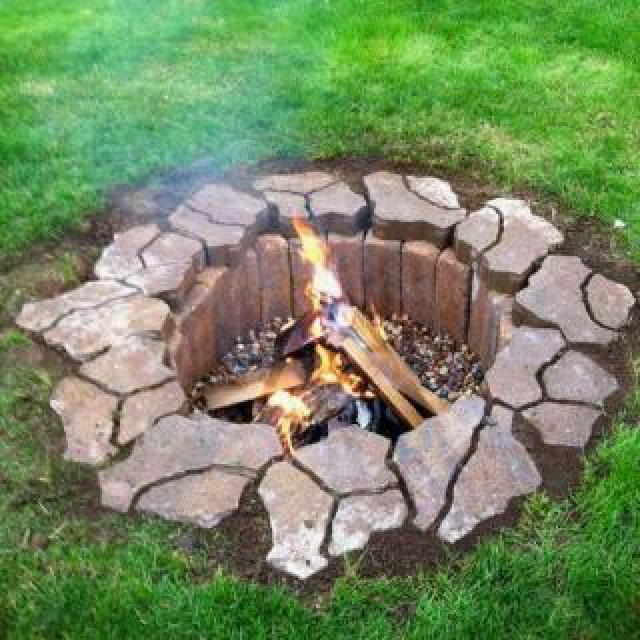Fire: (256, 238, 374, 424)
